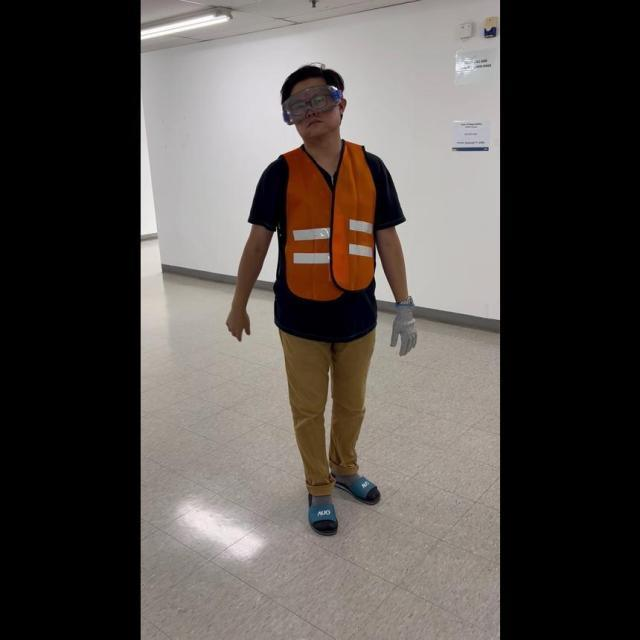bare_hand: (222, 301, 252, 342)
gloved_hand: (387, 295, 417, 356)
